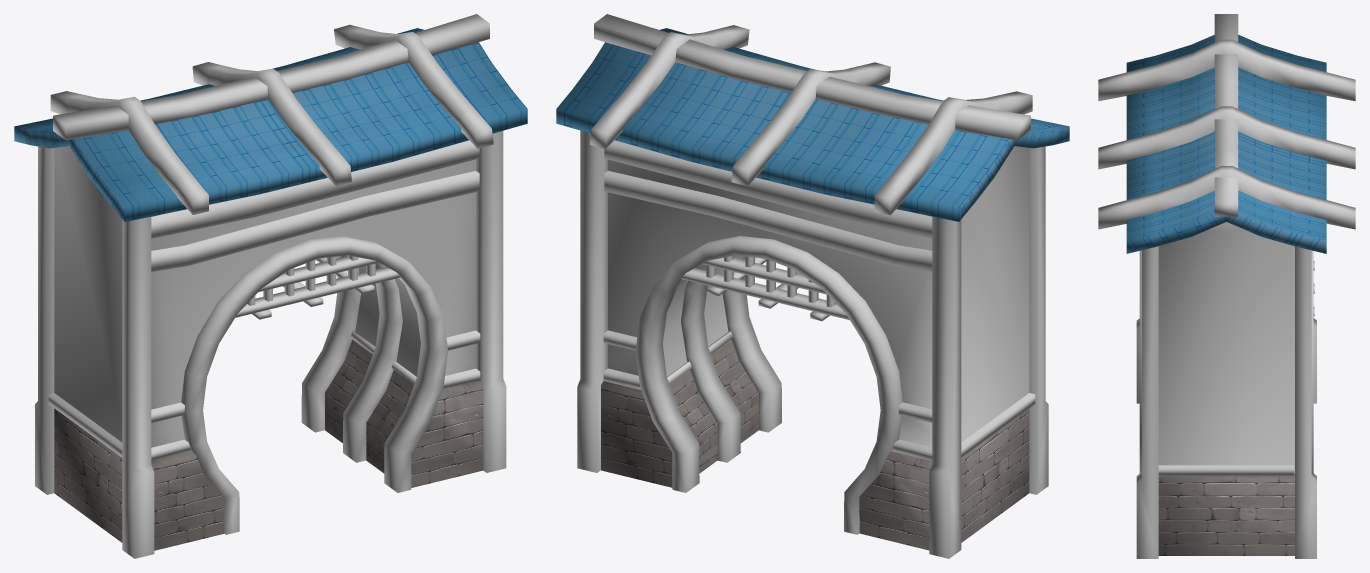
File: GardenWall_Gate_2.fbx
3 renders of one model, left to right at view 1: azimuth 30°, elevation 25°; view 2: azimuth 150°, elevation 25°; view 3: azimuth 270°, elevation 25°, orthographic. The views are drawn at different scales.
Visible parts, largest first — view 1: GardenWall_Gate_2; view 2: GardenWall_Gate_2; view 3: GardenWall_Gate_2.
Boxes of the visible parts, box(x1,y1,x2,y2) form: GardenWall_Gate_2: box(14, 14, 527, 558); GardenWall_Gate_2: box(556, 14, 1069, 558); GardenWall_Gate_2: box(1098, 14, 1355, 558).
Size of the model in its own units: 4.93 by 4.56 by 2.86.
